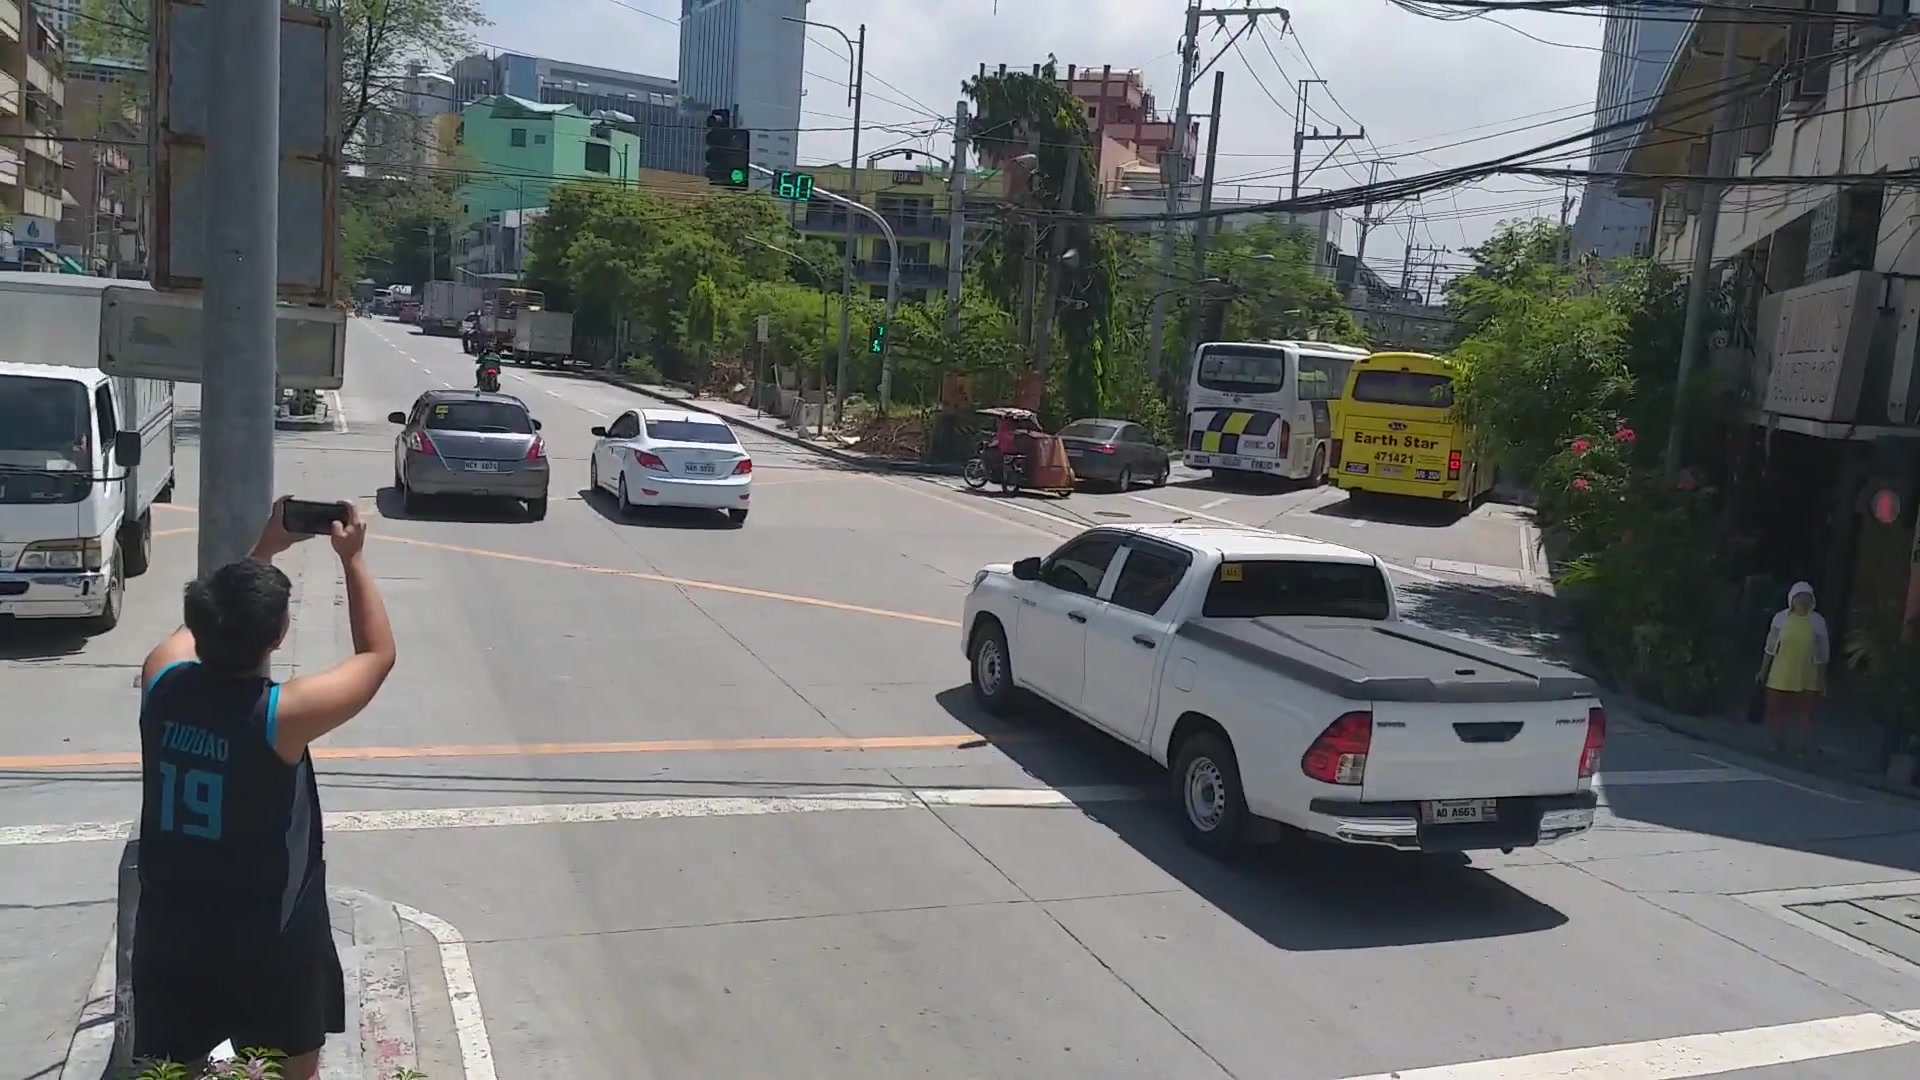car: (961, 509, 1613, 903), (389, 389, 562, 526), (588, 405, 759, 536)
plate number: (1424, 801, 1506, 829), (458, 456, 504, 480), (683, 456, 723, 483)
